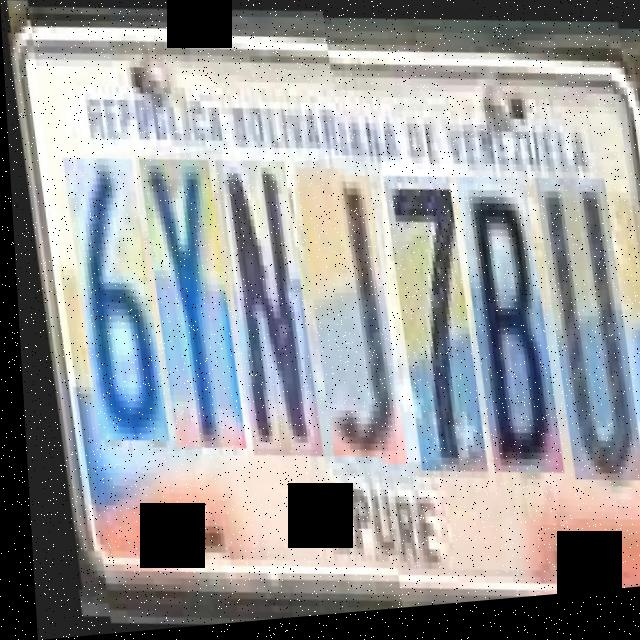6: (58, 152, 157, 447)
7: (377, 163, 473, 471)
B: (449, 163, 549, 472)
J: (291, 161, 392, 463)
N: (210, 154, 310, 463)
U: (528, 164, 630, 480)
Y: (134, 153, 234, 455)
